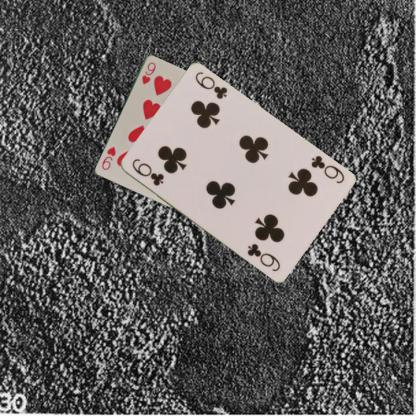6c: (308, 152, 346, 185), (129, 155, 165, 188)
9h: (139, 60, 157, 86)
